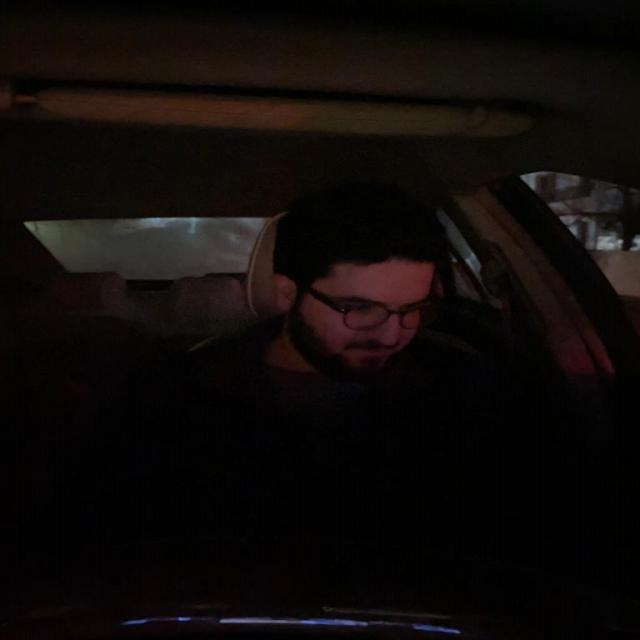drowsy: (277, 213, 438, 389)
